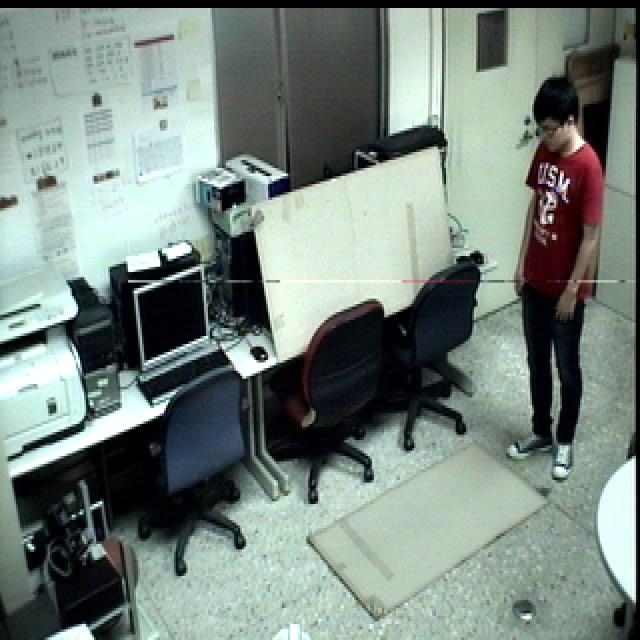stand: (500, 70, 614, 488)
